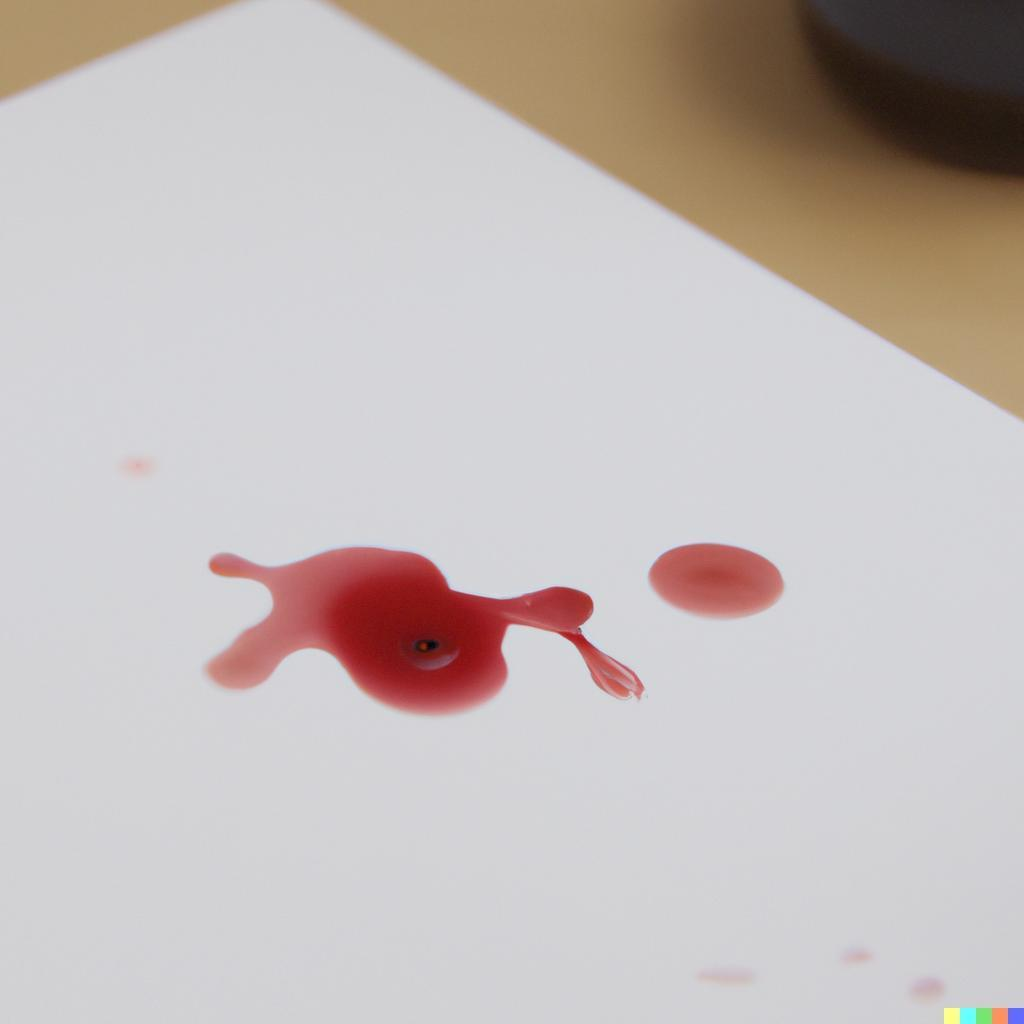Bloodstain-Detection: (320, 552, 504, 710), (650, 542, 779, 619)
